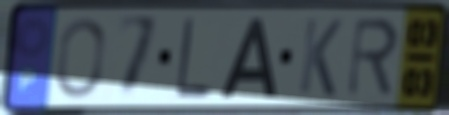7: (116, 13, 159, 103)
A: (217, 15, 279, 100)
K: (295, 15, 345, 100)
L: (173, 14, 213, 101)
O: (53, 15, 108, 101)
R: (345, 15, 402, 100)
